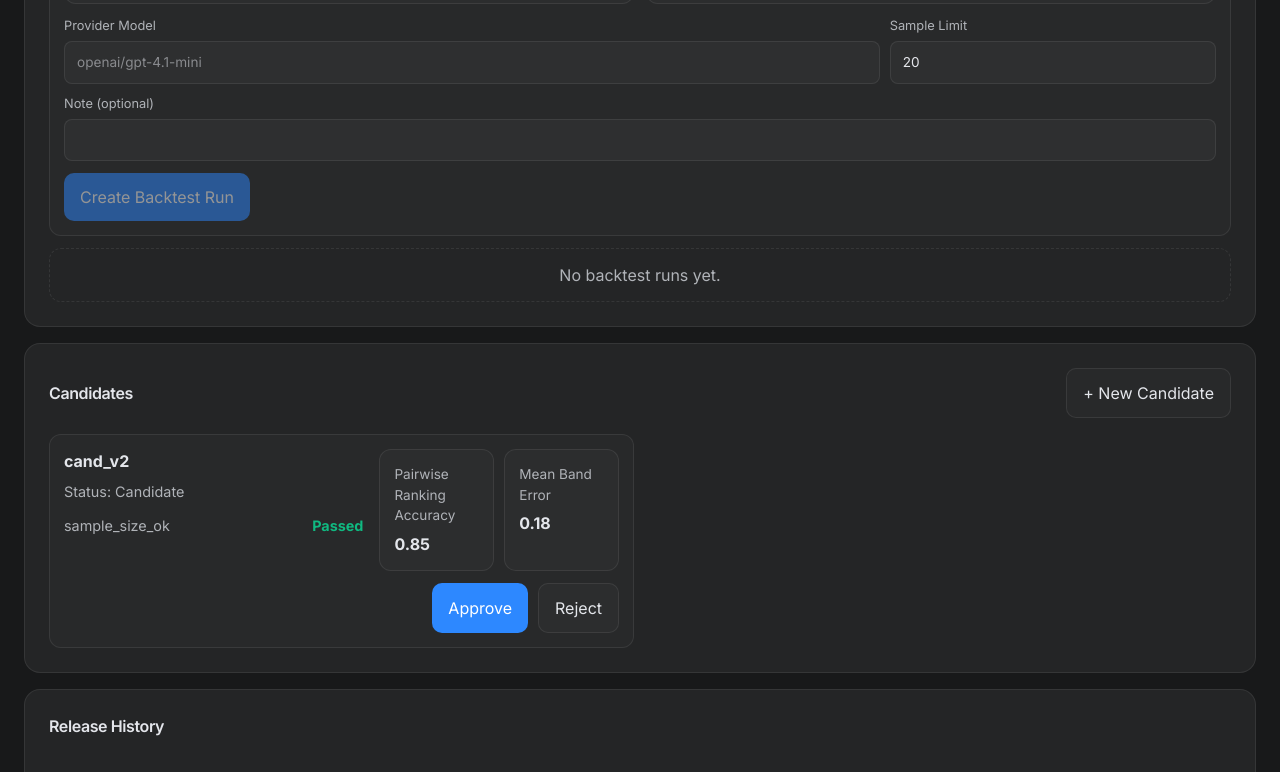
MetaAndromedaRelease › disables the create-candidate submit button until required fields are filled
(page scrolled)
Expected: the text "cand_v2" is shown, [64, 451, 129, 471]
Click the button "+ New Candidate" at x=1149, y=393, box [1066, 368, 1231, 418]
(page scrolled)
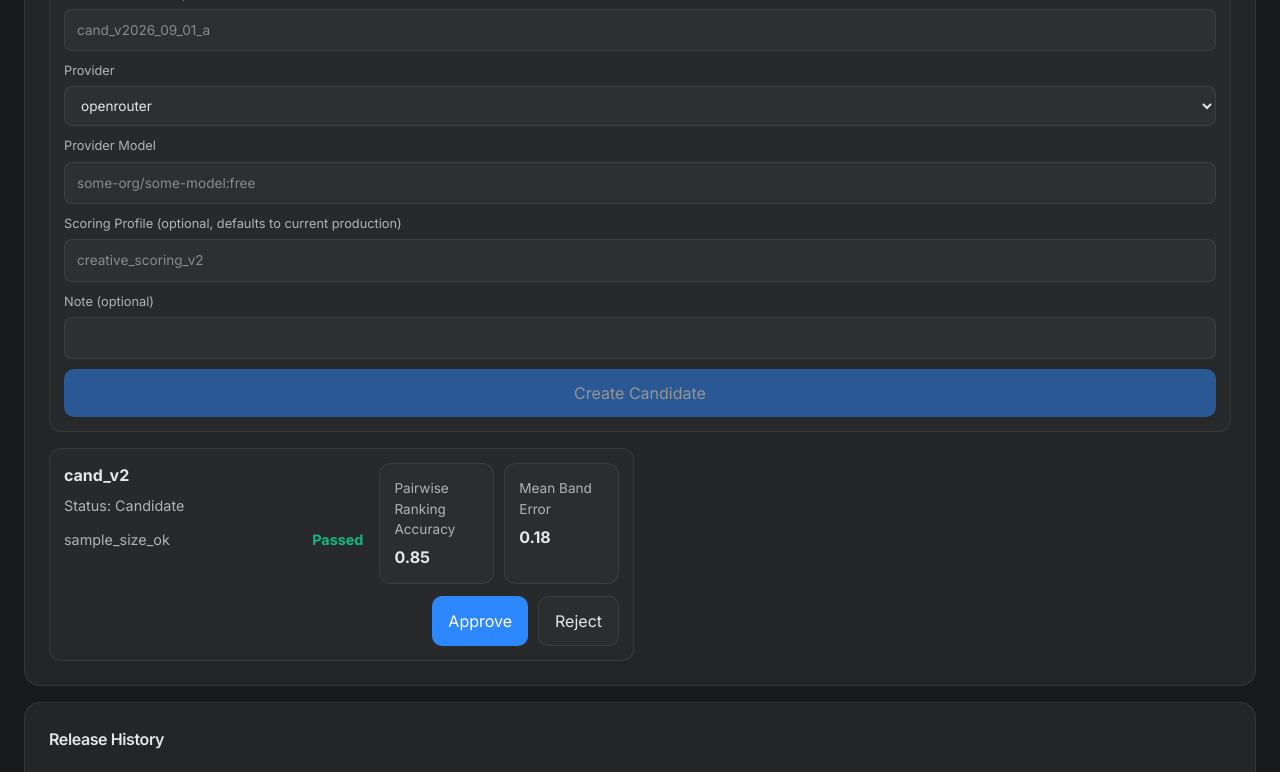
Expected: the button "Create Candidate" is disabled, [64, 369, 1216, 417]
